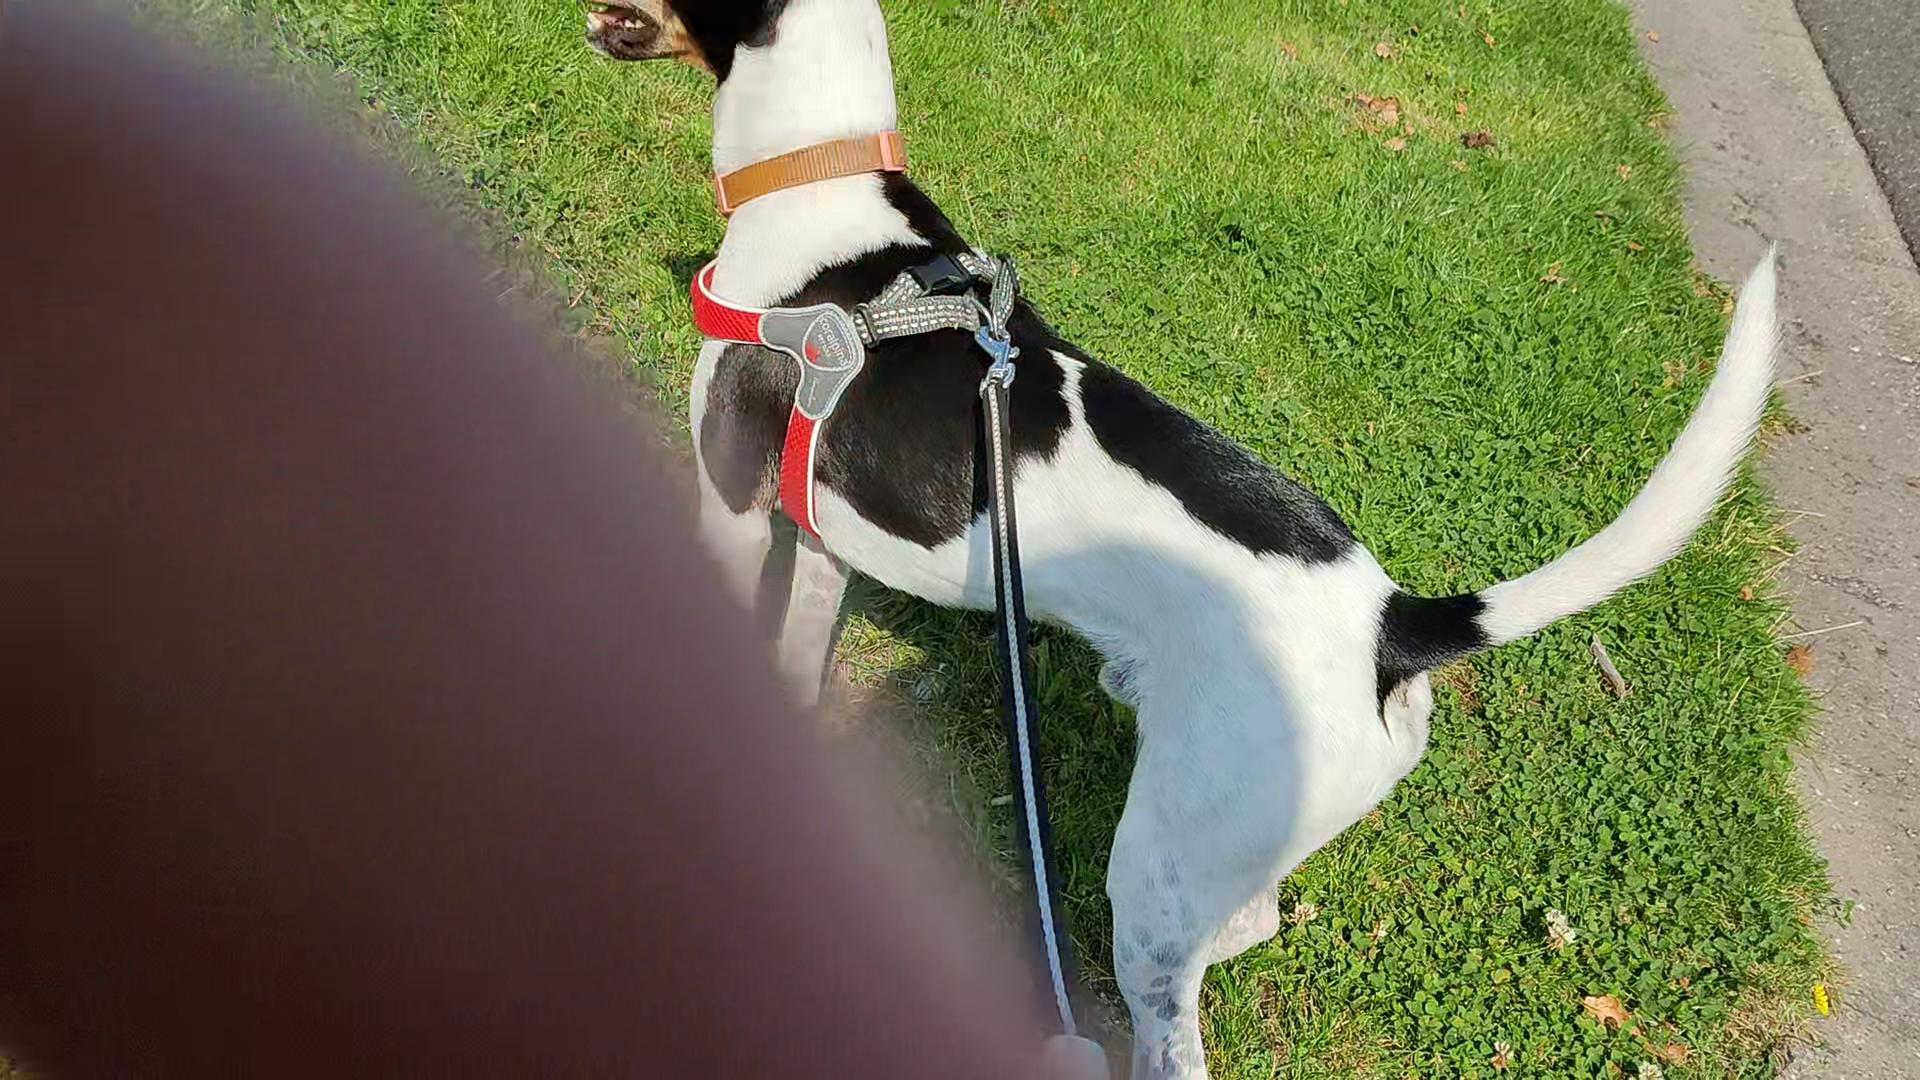Dog: (578, 0, 1778, 1079)
